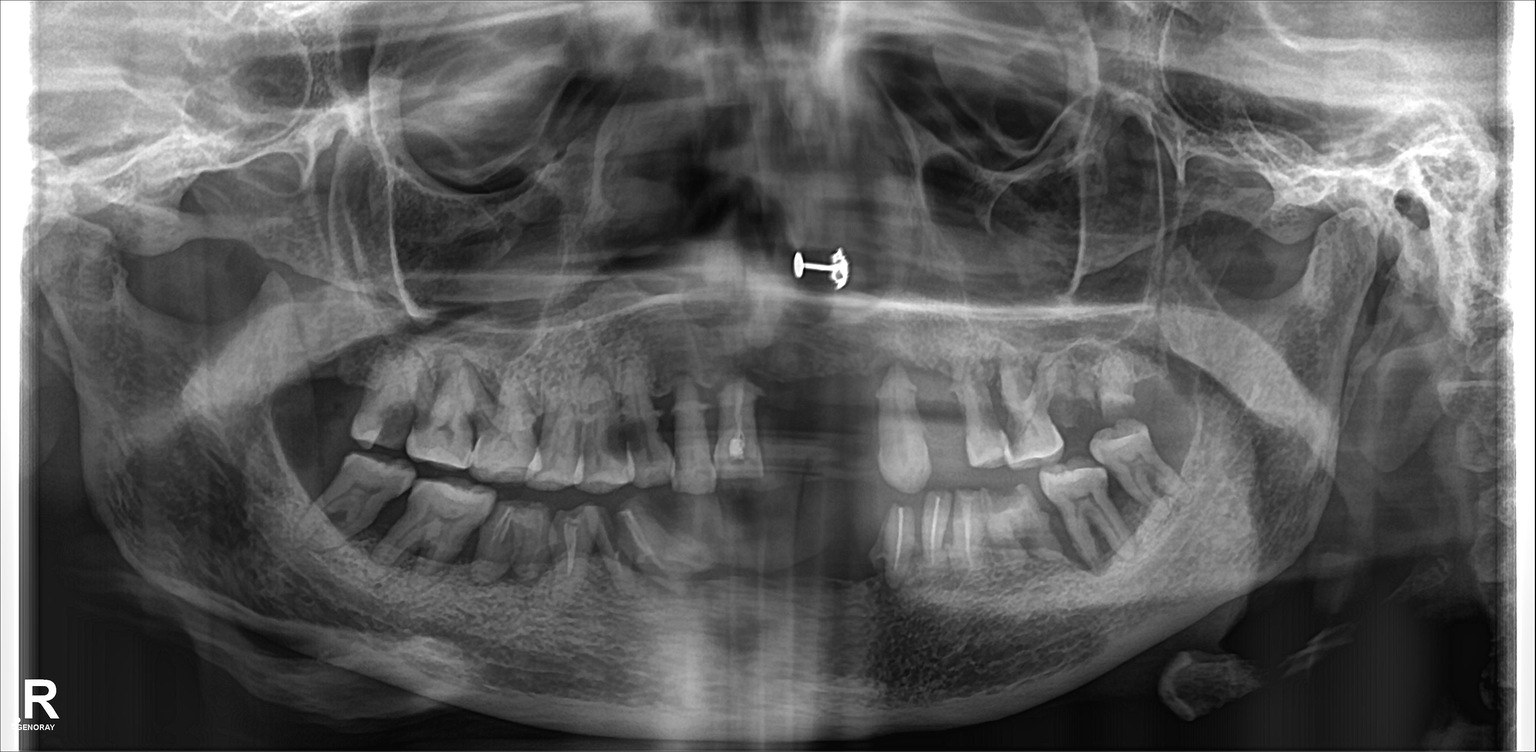Dental Caries: (602, 419, 647, 460), (380, 402, 422, 445), (991, 398, 1025, 444), (980, 478, 1029, 508)
Endodontically Treated Tooth: (711, 383, 758, 471), (484, 504, 523, 578), (946, 486, 980, 570), (618, 516, 660, 573), (885, 508, 910, 582), (927, 488, 946, 576), (561, 523, 583, 594)
Missing Tooth: (814, 517, 869, 621), (685, 523, 742, 609), (313, 346, 358, 450), (926, 370, 973, 469), (752, 527, 806, 612), (1130, 341, 1184, 416), (816, 372, 854, 463), (764, 380, 803, 468), (272, 450, 320, 518)
Retained Root: (1052, 359, 1095, 445), (1095, 352, 1129, 420)
